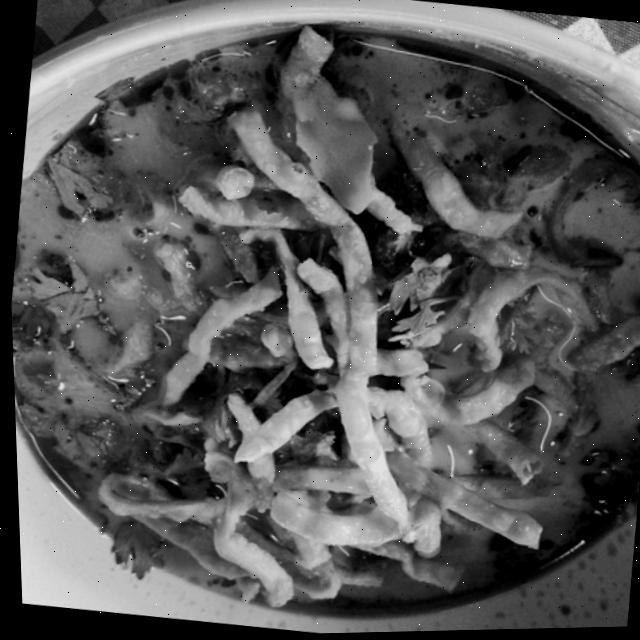面条主食: (1, 26, 640, 631)
